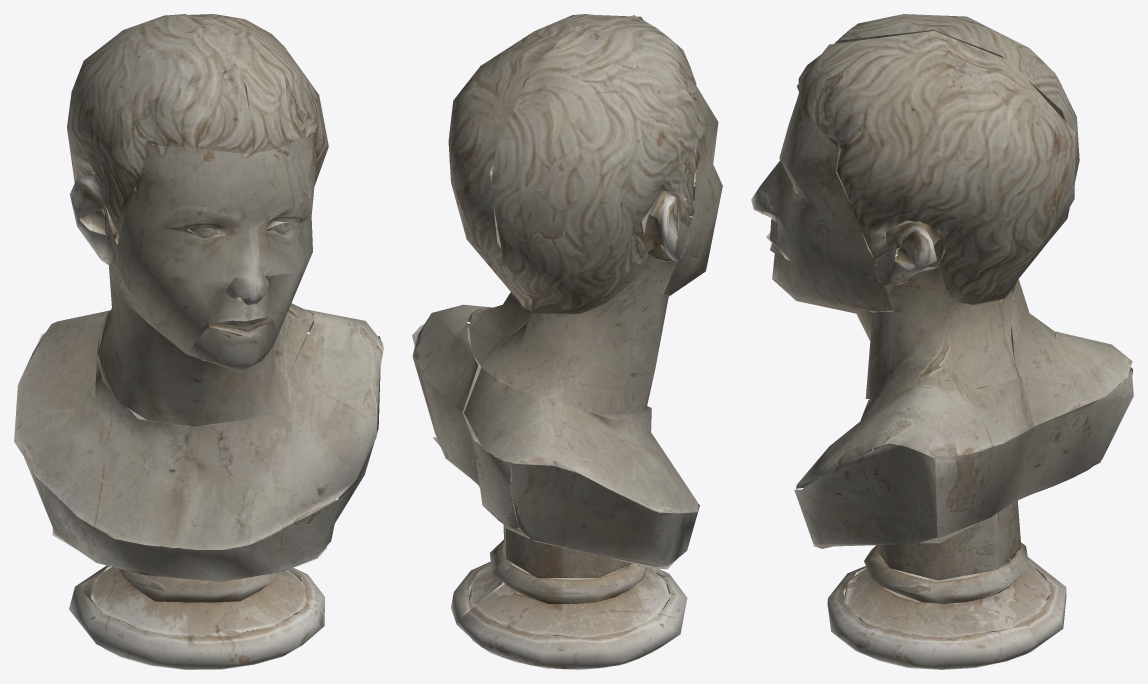
File: bust.glb
The picture shows the model from 3 angles, left to right: view 1: azimuth 30°, elevation 25°; view 2: azimuth 150°, elevation 25°; view 3: azimuth 270°, elevation 25°; orthographic projection. The views are drawn at different scales.
Visible parts, largest first — view 1: marble_bust_01; view 2: marble_bust_01; view 3: marble_bust_01.
Boxes of the visible parts, x1,y1,x2,y2 form: marble_bust_01: (14, 14, 383, 669); marble_bust_01: (412, 14, 722, 669); marble_bust_01: (751, 14, 1133, 669).
Size of the model in its own units: 0.274 by 0.5166 by 0.3002.
Materials: 1 (1 with a texture image).
